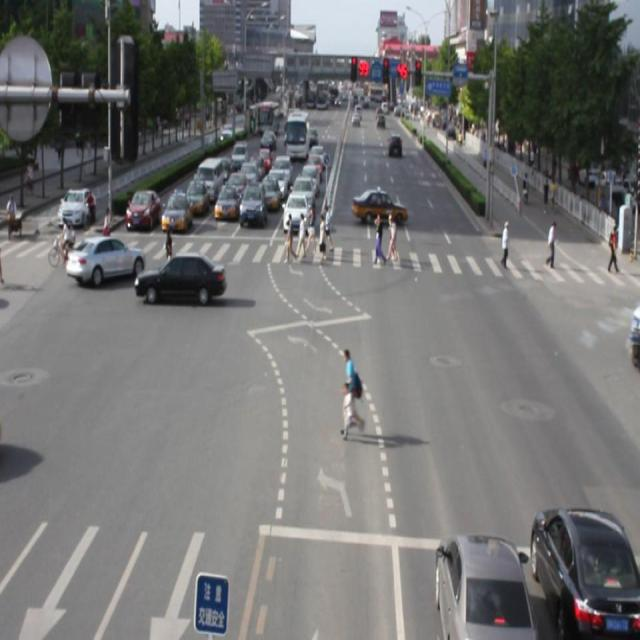car: (523, 495, 640, 640), (429, 524, 530, 640), (136, 250, 228, 302), (66, 233, 145, 285)
